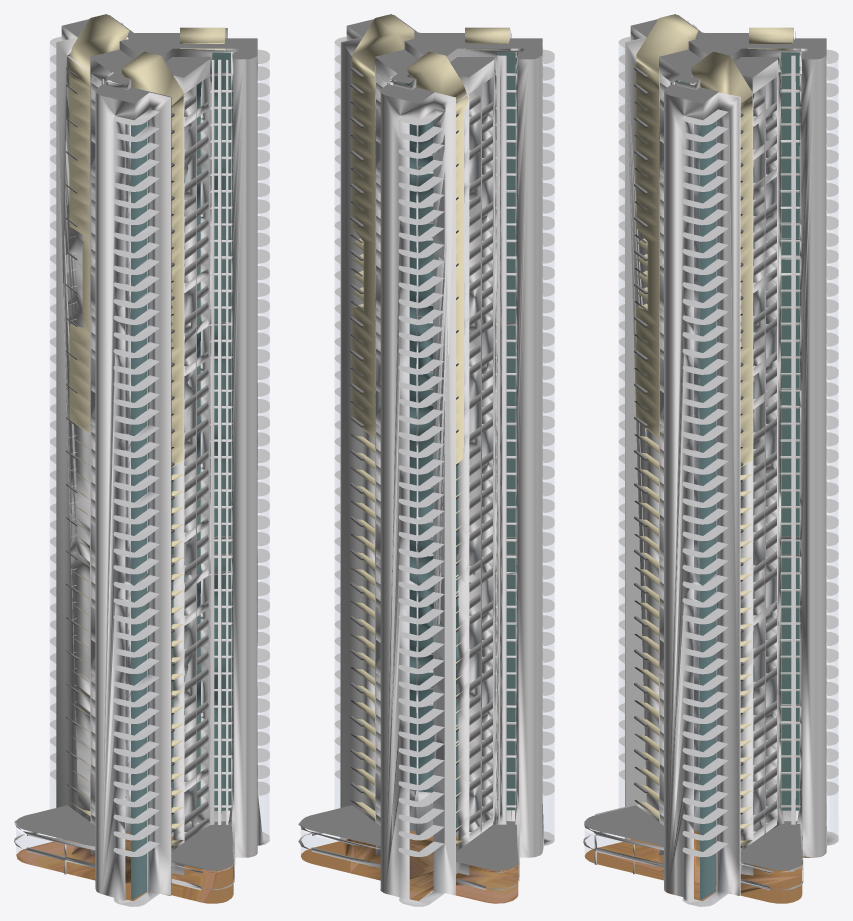
Rendered from building-2.glb.
The picture shows the model from 3 angles, left to right: view 1: azimuth 30°, elevation 25°; view 2: azimuth 150°, elevation 25°; view 3: azimuth 270°, elevation 25°; orthographic projection.
Parts seen in each view (by area): view 1: part_02, part_01, part_03, part_05, part_04, part_00, part_07, part_06; view 2: part_02, part_01, part_05, part_03, part_04, part_07, part_00, part_06; view 3: part_02, part_01, part_05, part_03, part_04, part_00, part_07, part_06.
Boxes of the visible parts, bbox=[...] form: part_02: bbox=[14, 26, 269, 906]; part_01: bbox=[27, 22, 269, 890]; part_03: bbox=[101, 52, 230, 900]; part_05: bbox=[67, 14, 225, 846]; part_04: bbox=[16, 15, 257, 870]; part_00: bbox=[16, 45, 269, 881]; part_07: bbox=[16, 831, 257, 903]; part_06: bbox=[66, 68, 174, 847]; part_02: bbox=[298, 26, 554, 906]; part_01: bbox=[311, 30, 554, 890]; part_05: bbox=[352, 14, 509, 846]; part_03: bbox=[396, 52, 517, 829]; part_04: bbox=[300, 15, 542, 870]; part_07: bbox=[301, 831, 539, 903]; part_00: bbox=[301, 45, 553, 852]; part_06: bbox=[350, 67, 458, 831]; part_02: bbox=[583, 26, 838, 906]; part_01: bbox=[594, 20, 838, 890]; part_05: bbox=[636, 14, 793, 846]; part_03: bbox=[670, 52, 799, 900]; part_04: bbox=[585, 15, 826, 870]; part_00: bbox=[585, 45, 837, 852]; part_07: bbox=[584, 831, 821, 903]; part_06: bbox=[634, 67, 743, 847].
Bounding box in the file's own units: 203 × 736 × 209.
6 materials, 1 textured.
